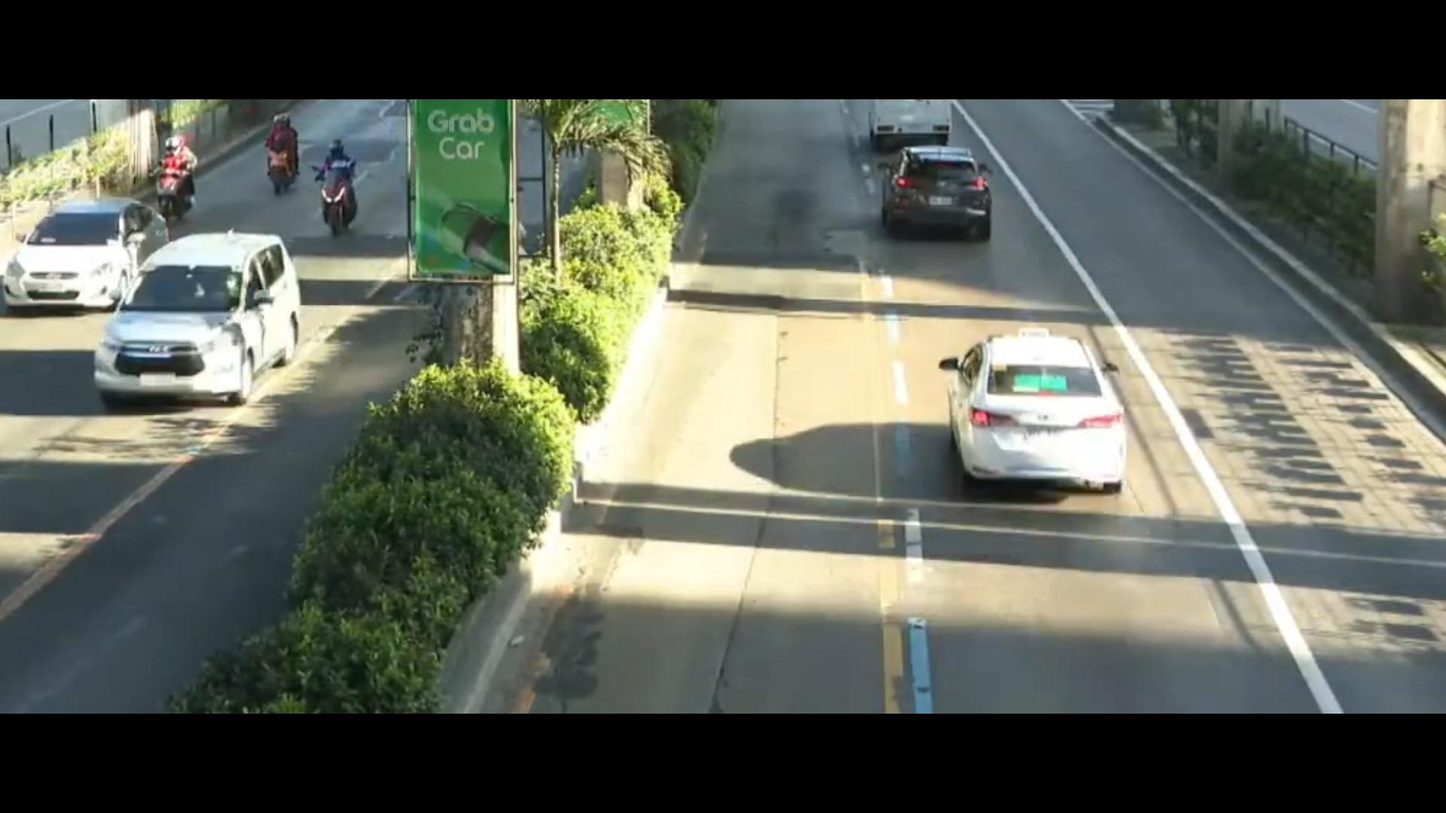Motorcycle: (301, 130, 381, 246), (143, 128, 223, 214), (256, 104, 317, 196)
SUV: (76, 221, 315, 431)
Sedan: (926, 318, 1173, 515), (0, 187, 177, 324), (843, 142, 1034, 268)
